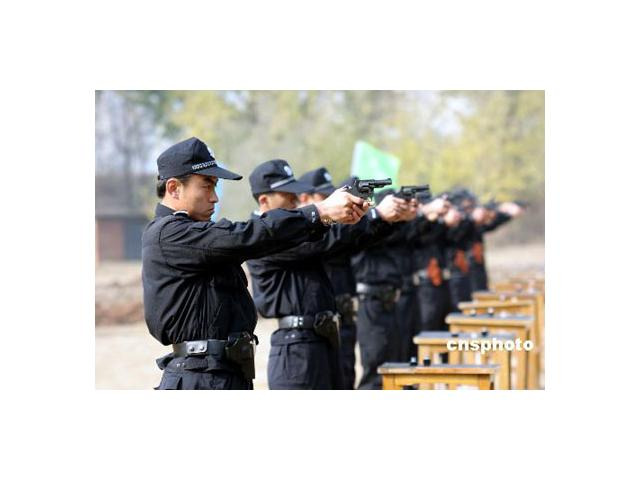pistol: (339, 177, 393, 213), (392, 184, 430, 215)
